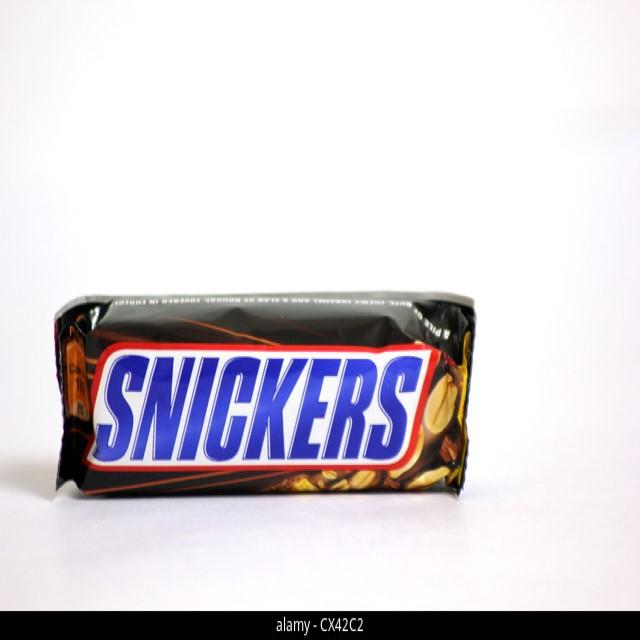snickers_chocolate: (55, 290, 468, 500)
